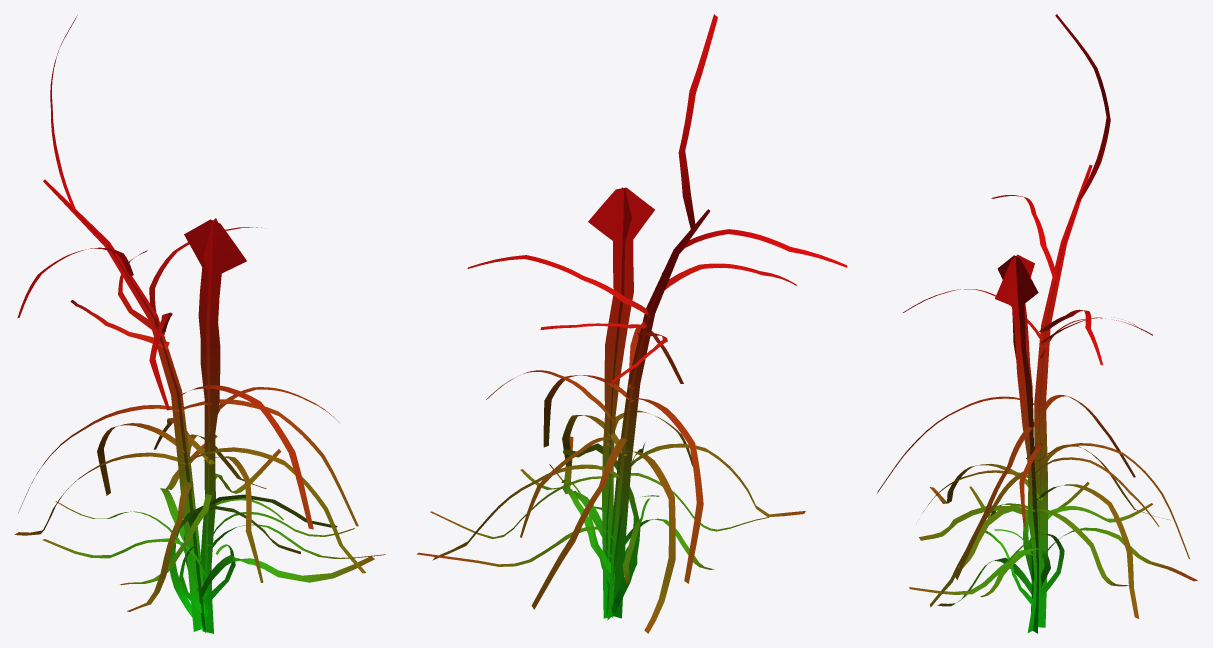
Rendered from Var6_LOD0.fbx.
3 views of the same model, side by side, from view 1: azimuth 30°, elevation 25°; view 2: azimuth 150°, elevation 25°; view 3: azimuth 270°, elevation 25° (orthographic). The views are drawn at different scales.
Parts seen in each view (by area): view 1: _6b46_Var6_LOD0; view 2: _6b46_Var6_LOD0; view 3: _6b46_Var6_LOD0.
Part boxes in pixels (<box>): _6b46_Var6_LOD0: <box>14,15,385,633</box>; _6b46_Var6_LOD0: <box>417,14,847,633</box>; _6b46_Var6_LOD0: <box>877,14,1197,633</box>.
Bounding box in the file's own units: 14.95 × 26.72 × 13.74.
